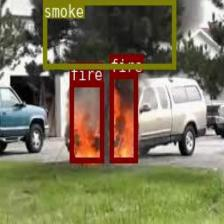fire: (70, 81, 104, 162), (109, 72, 137, 162)
smoke: (42, 0, 176, 67)
